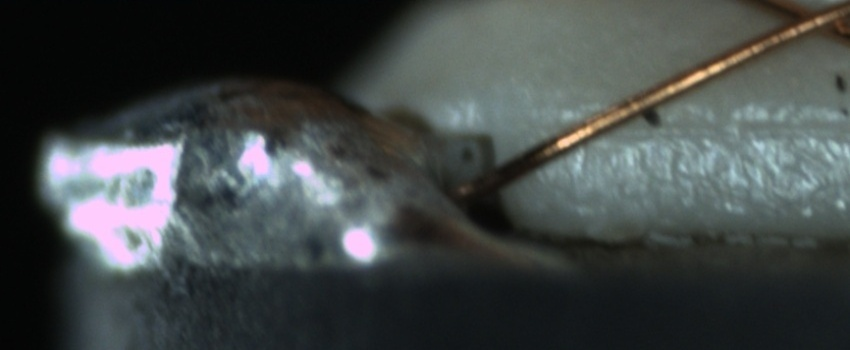CL: (760, 1, 847, 46)
DL: (561, 96, 846, 155)
